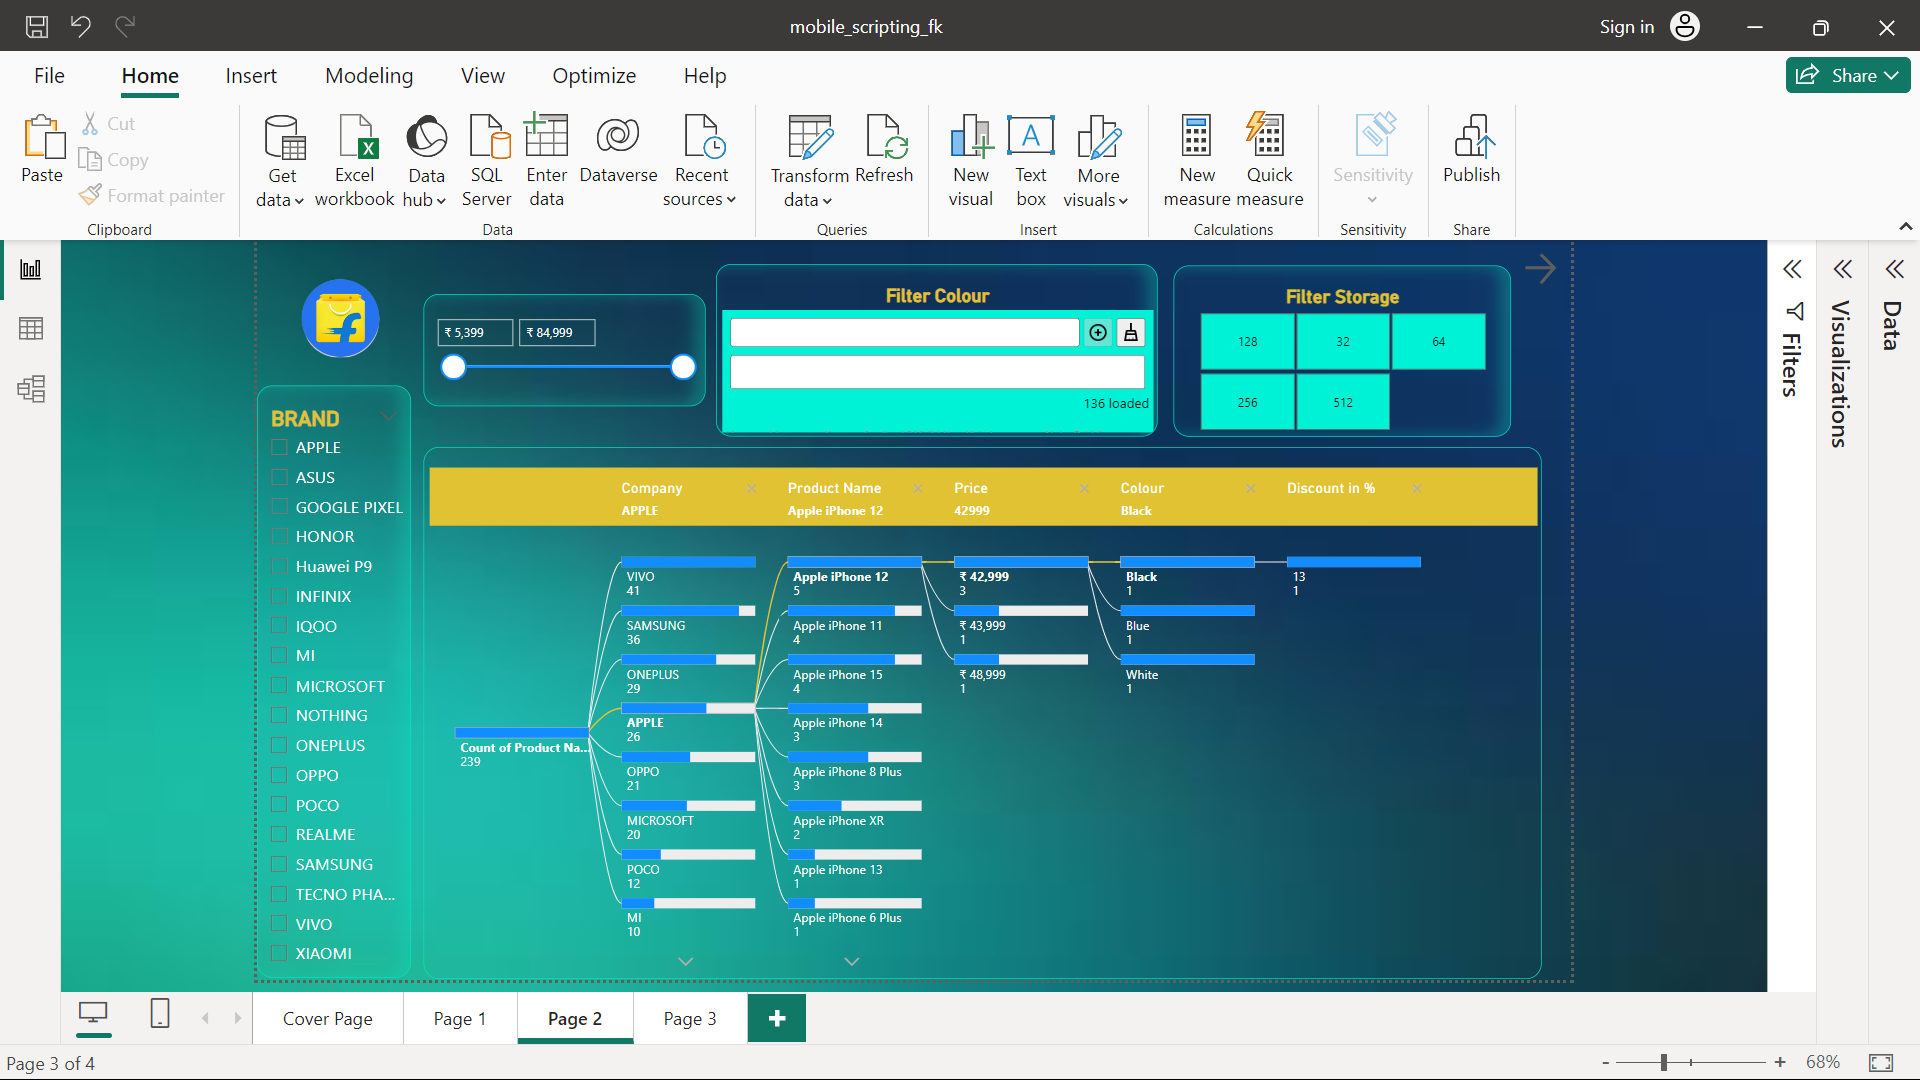

This screenshot's page, from the dashboard's own definition file:
{"tool":"powerbi","page":{"name":"Page 2","canvas":[1280,720],"ordinal":2},"visuals":[{"type":"decompositionTreeVisual","fields":{"Analyze":["CountNonNull(df.Product Name)"],"ExplainBy":["df.Company","df.Product Name","df.Price","df.Colour","df.Discount in %"]},"box":[162,201.4,1088.7,517.9],"z":0},{"type":"slicer","fields":{"Values":["df.Company"]},"box":[0,142.3,149.9,576.9],"z":1000},{"type":"image","box":[1.5,10.6,160.5,131.7],"z":2000},{"type":"actionButton","box":[1220.4,0,59.1,56],"z":3000},{"type":"valuefilter067F5282FE684A43B734273E444AE8EB","fields":{"valsource":["df.Colour"]},"box":[446.7,22.7,430,168.1],"z":5000},{"type":"slicer","title":"Filter Storage ","fields":{"Values":["df.Storage in GB"]},"box":[891.9,24.2,328.6,166.6],"z":6000},{"type":"textFilter25A4896A83E0487089E2B90C9AE57C8A","fields":{"field":["df.text  price"]},"box":[162,24.2,274.1,107.5],"z":6001},{"type":"slicer","fields":{"Values":["df.Price"]},"box":[162,107.5,274.1,95.4],"z":6002}]}

Visuals, with their boxes on the page's 1280x720 design canvas (x1, y1, x2, y2). These are canvas units, not pixel positions in the 1920x1080 screenshot, which may show the page scaled, cropped or inside an application window:
decompositionTreeVisual - CountNonNull(df.Product Name) x df.Company: (left=162, top=201, right=1251, bottom=719)
slicer - df.Company: (left=0, top=142, right=150, bottom=719)
image: (left=2, top=11, right=162, bottom=142)
actionButton: (left=1220, top=0, right=1280, bottom=56)
valuefilter067F5282FE684A43B734273E444AE8EB - df.Colour: (left=447, top=23, right=877, bottom=191)
"Filter Storage " slicer: (left=892, top=24, right=1220, bottom=191)
textFilter25A4896A83E0487089E2B90C9AE57C8A - df.text  price: (left=162, top=24, right=436, bottom=132)
slicer - df.Price: (left=162, top=108, right=436, bottom=203)
